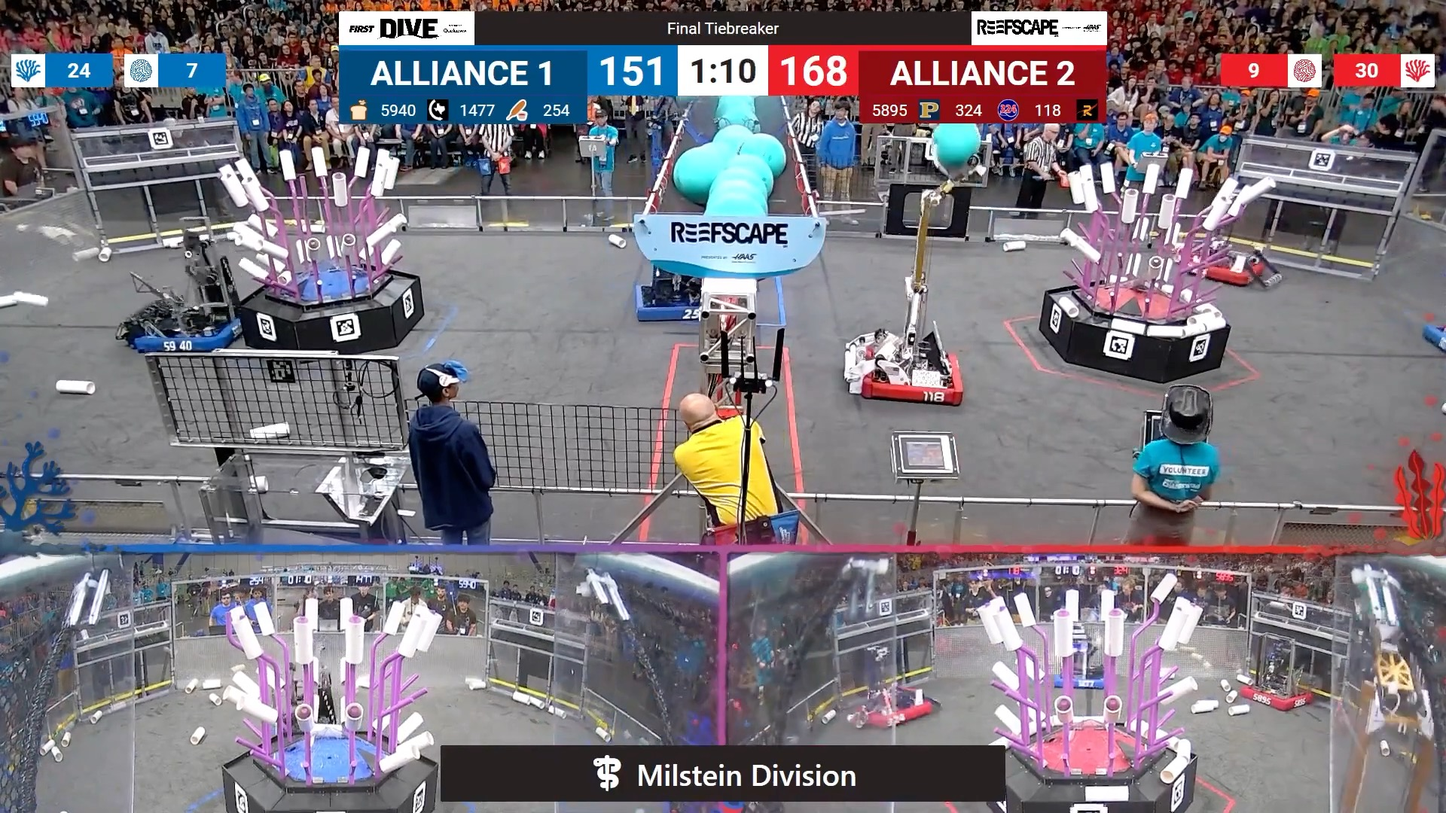bumpers: (843, 347, 968, 415), (133, 299, 248, 358), (1167, 249, 1274, 289), (630, 278, 714, 328), (849, 690, 937, 731), (1232, 681, 1321, 716), (1421, 313, 1446, 368)
